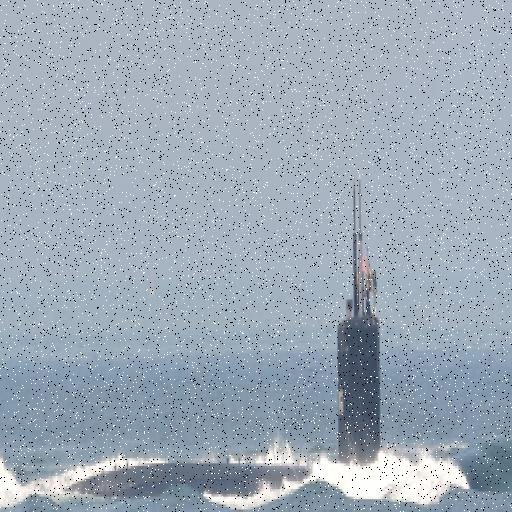submarine: (1, 173, 469, 503)
